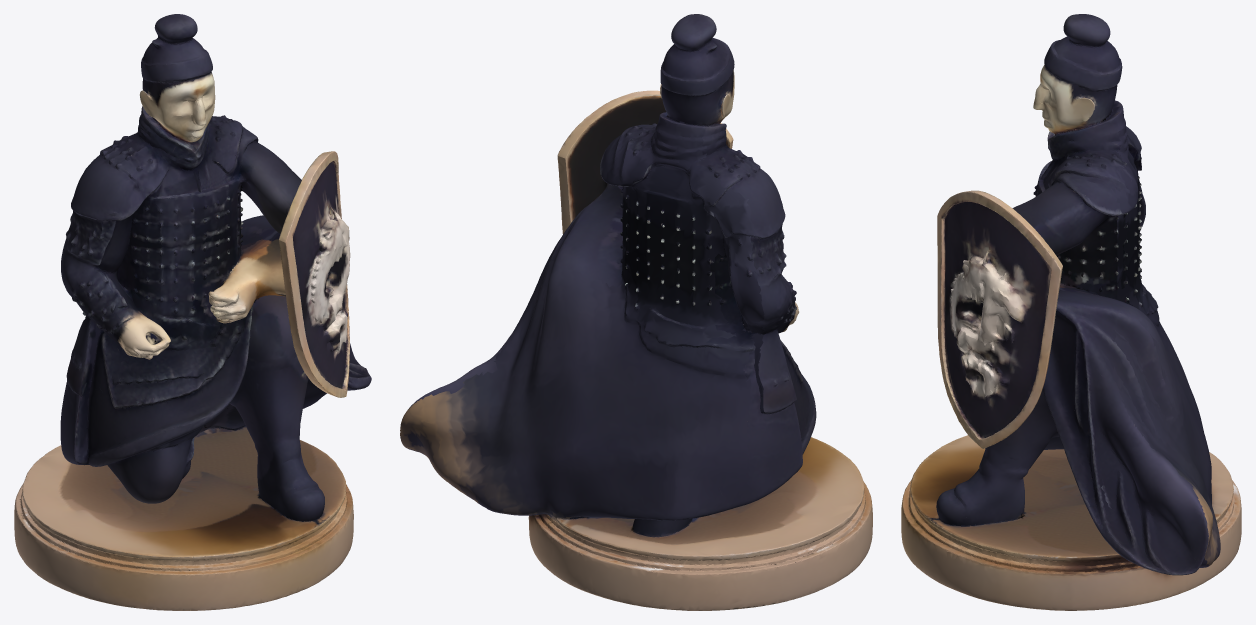
File: pawn_black.glb
The picture shows the model from 3 angles, left to right: view 1: azimuth 30°, elevation 25°; view 2: azimuth 150°, elevation 25°; view 3: azimuth 270°, elevation 25°; orthographic projection.
Visible parts, largest first — view 1: model; view 2: model; view 3: model.
Boxes of the visible parts, bbox=[...] form: model: bbox=[14, 14, 371, 610]; model: bbox=[400, 14, 872, 610]; model: bbox=[901, 14, 1241, 610].
Size of the model in its own units: 1.45 by 1.9 by 1.12.
1 material, 1 textured.
